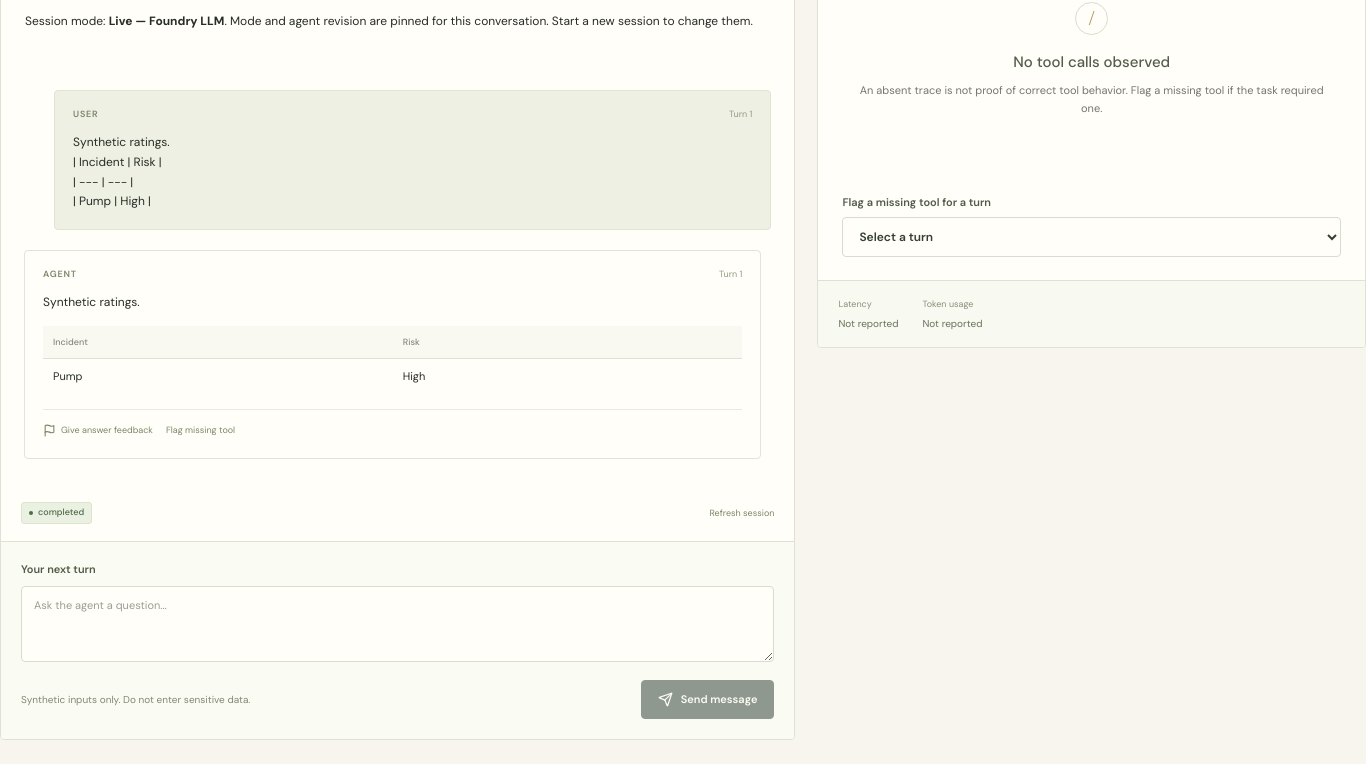
Test case: review and execution boundaries › renders live assistant tables and keeps the session mode pinned on message failure
(page scrolled)
expect the cell "Pump" is shown: met, box [43,358,393,393]
expect the text "| Pump | High |" is shown: met, box [73,134,170,209]
Step 1. Type "Inspect the pump" into the text box labelled "Your next turn" → coordinates (398, 624), box [21,586,774,662]
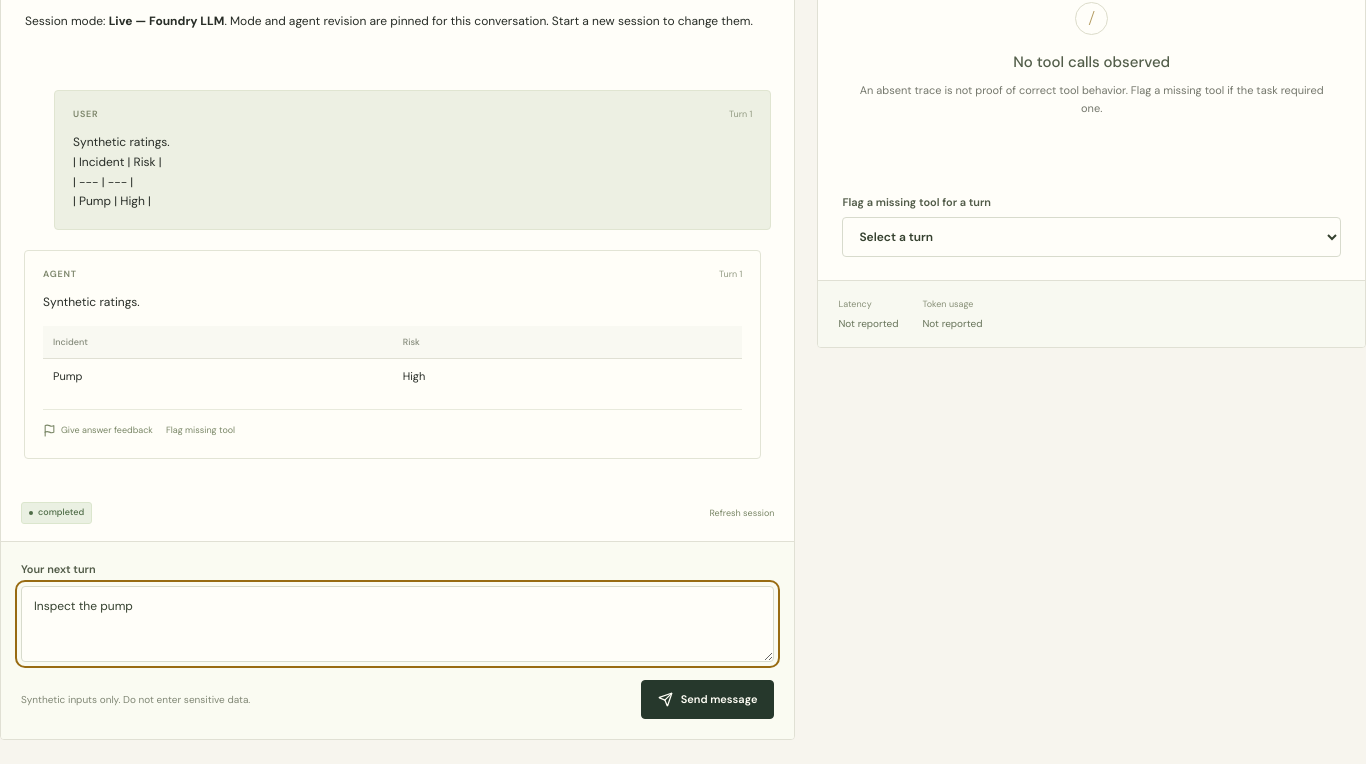
Step 2. Click the button "Send message" → coordinates (708, 699), box [641,680,774,719]
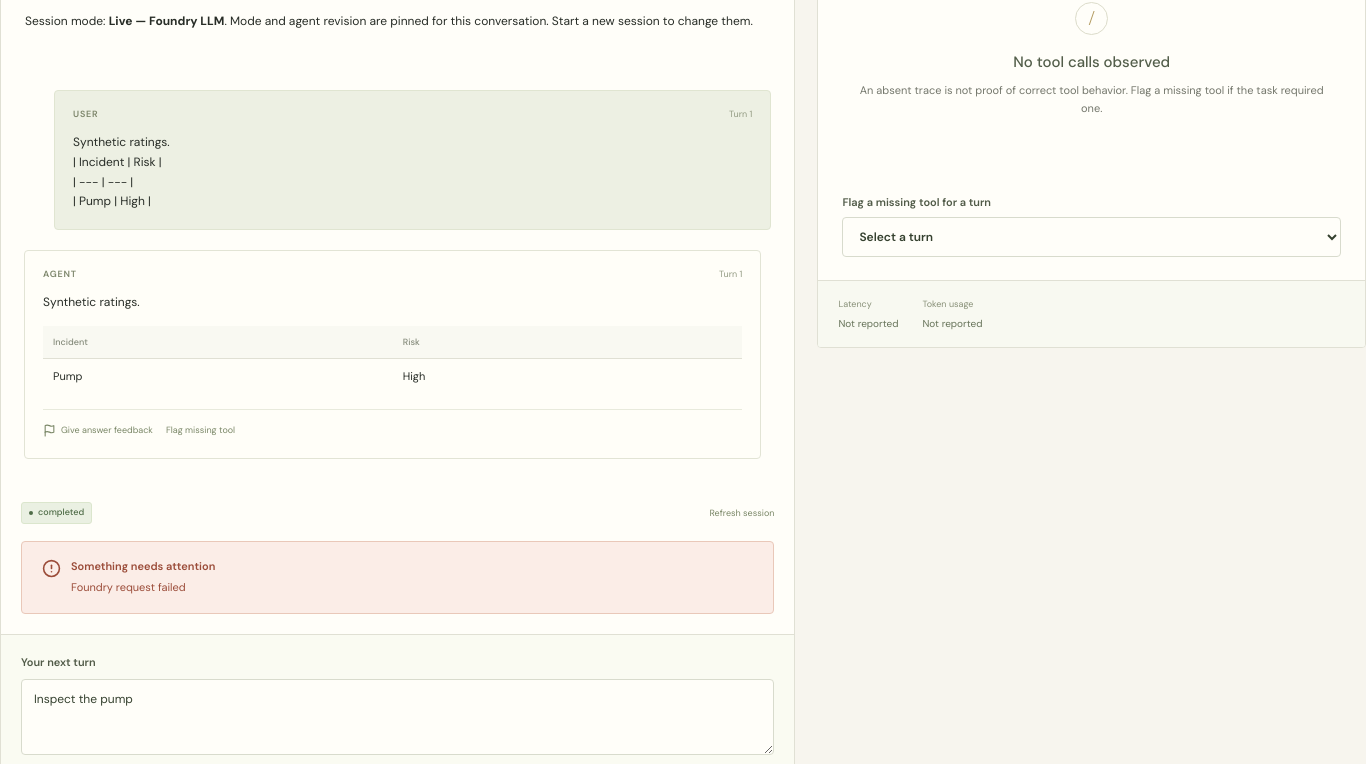
expect the text "Live — Foundry LLM" is shown: met, box [109,13,224,29]
expect the message shows "Foundry request failed": met, box [71,580,186,594]
